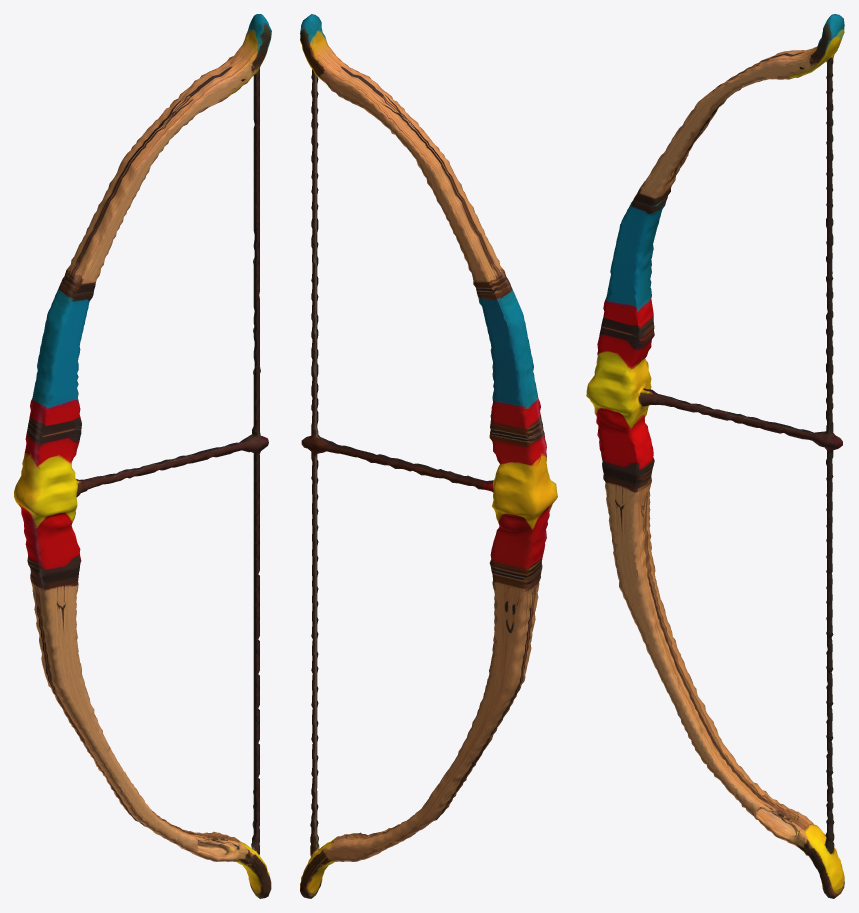
Rendered from yay.glb.
The picture shows the model from 3 angles, left to right: view 1: azimuth 30°, elevation 25°; view 2: azimuth 150°, elevation 25°; view 3: azimuth 330°, elevation 25°; orthographic projection.
Parts seen in each view (by area): view 1: Mesh_0.001; view 2: Mesh_0.001; view 3: Mesh_0.001.
Part boxes in pixels (x1,y1,x2,y2): Mesh_0.001: (14,14,271,898); Mesh_0.001: (300,14,557,898); Mesh_0.001: (586,14,844,898).
Size of the model in its own units: 0.0352 by 0.12 by 0.00567.
Materials: 1 (1 with a texture image).
